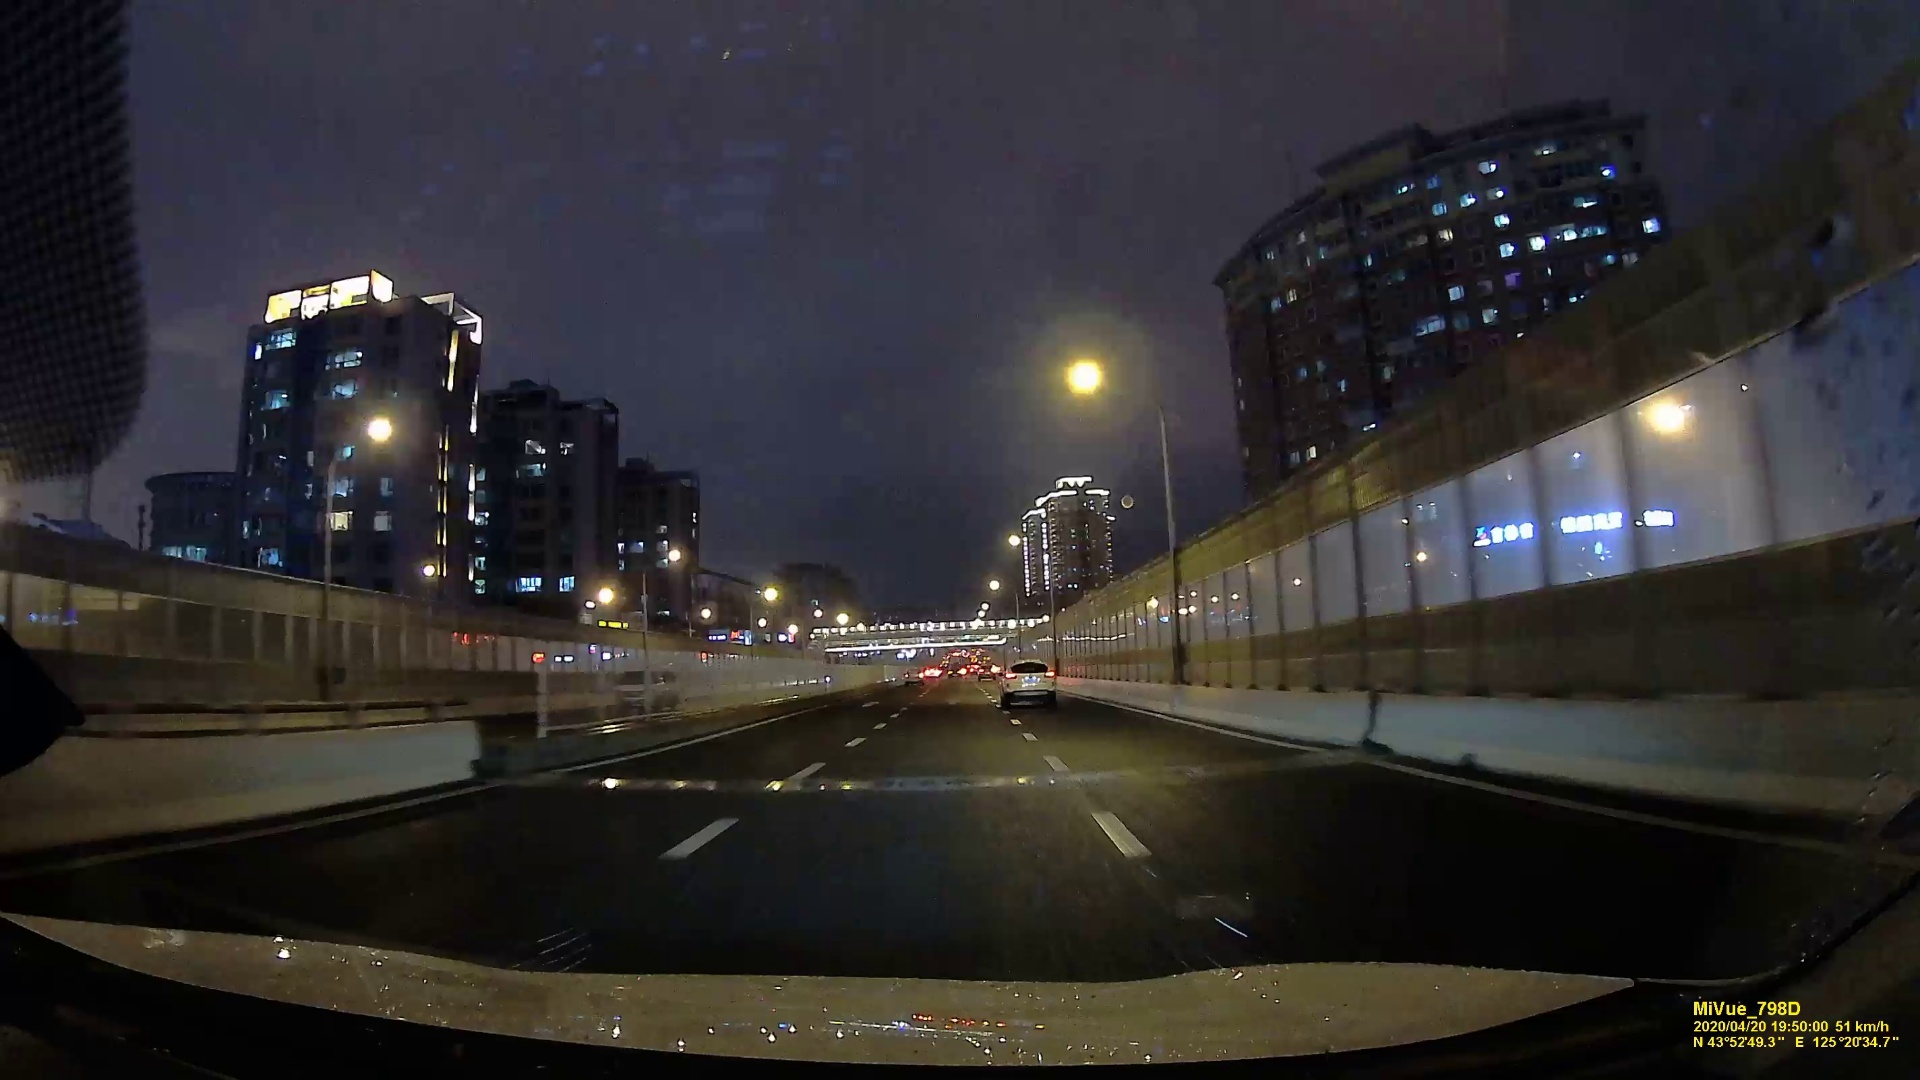minibus: (611, 666, 678, 711)
vehicle: (998, 658, 1055, 709)
